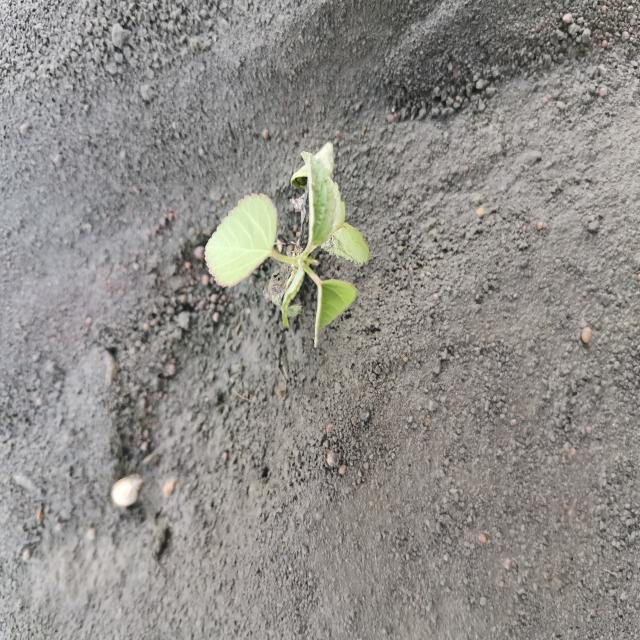PricklySida: (201, 139, 373, 351)
